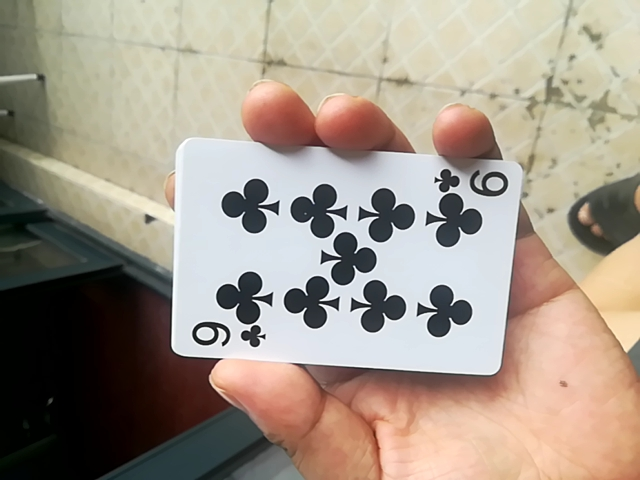mh 9: (173, 137, 520, 380)
